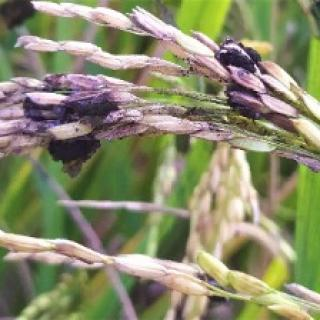Gosong-Palsu: (39, 119, 113, 180), (215, 33, 268, 74)
